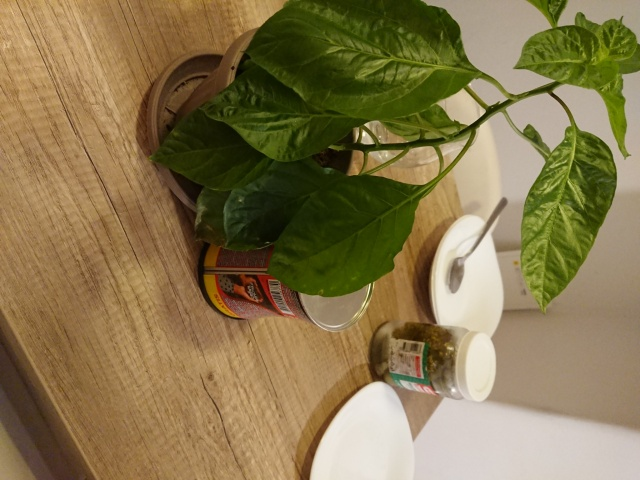Nescafe Classic 225g: (194, 219, 378, 335)
